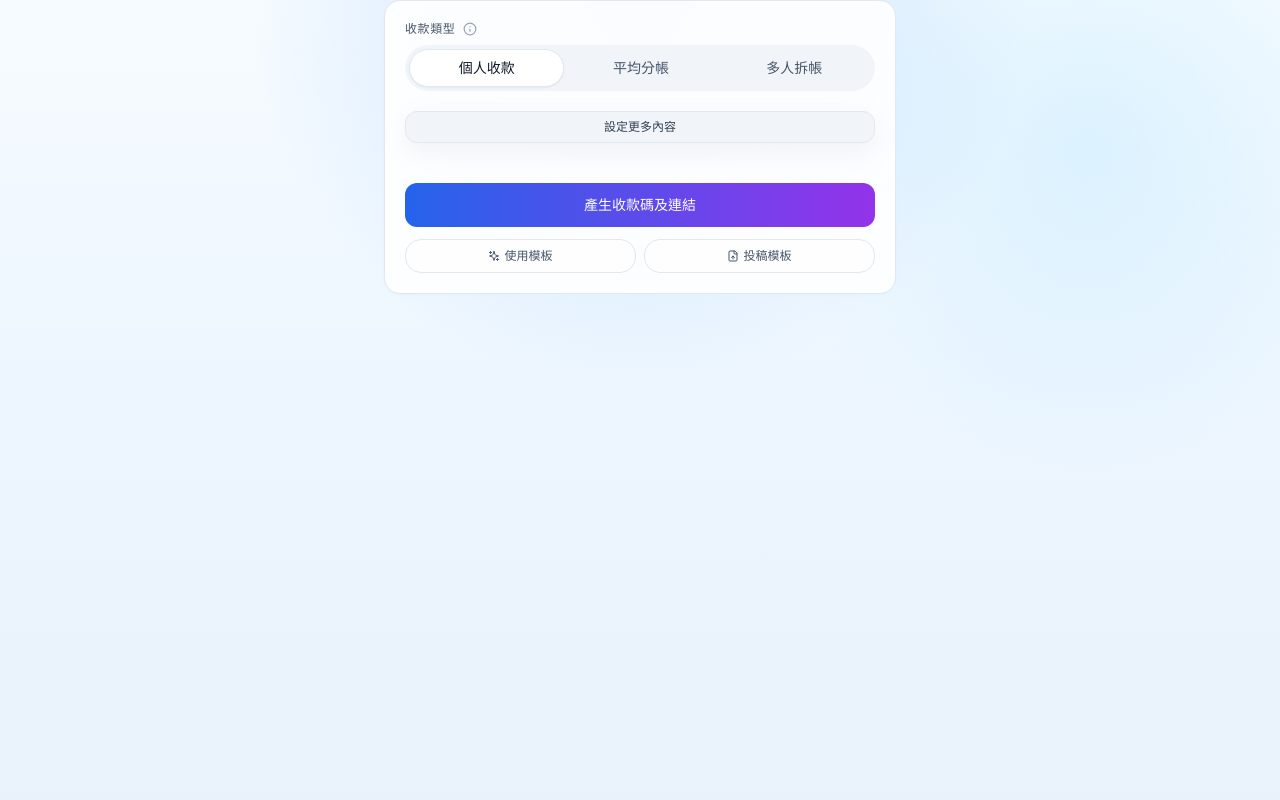
Generator Integration Tests › 切換至「多人拆帳」模式，應顯示分帳表單
Click the button "多人拆帳". click: (794, 68)
box: [718,50,871,86]
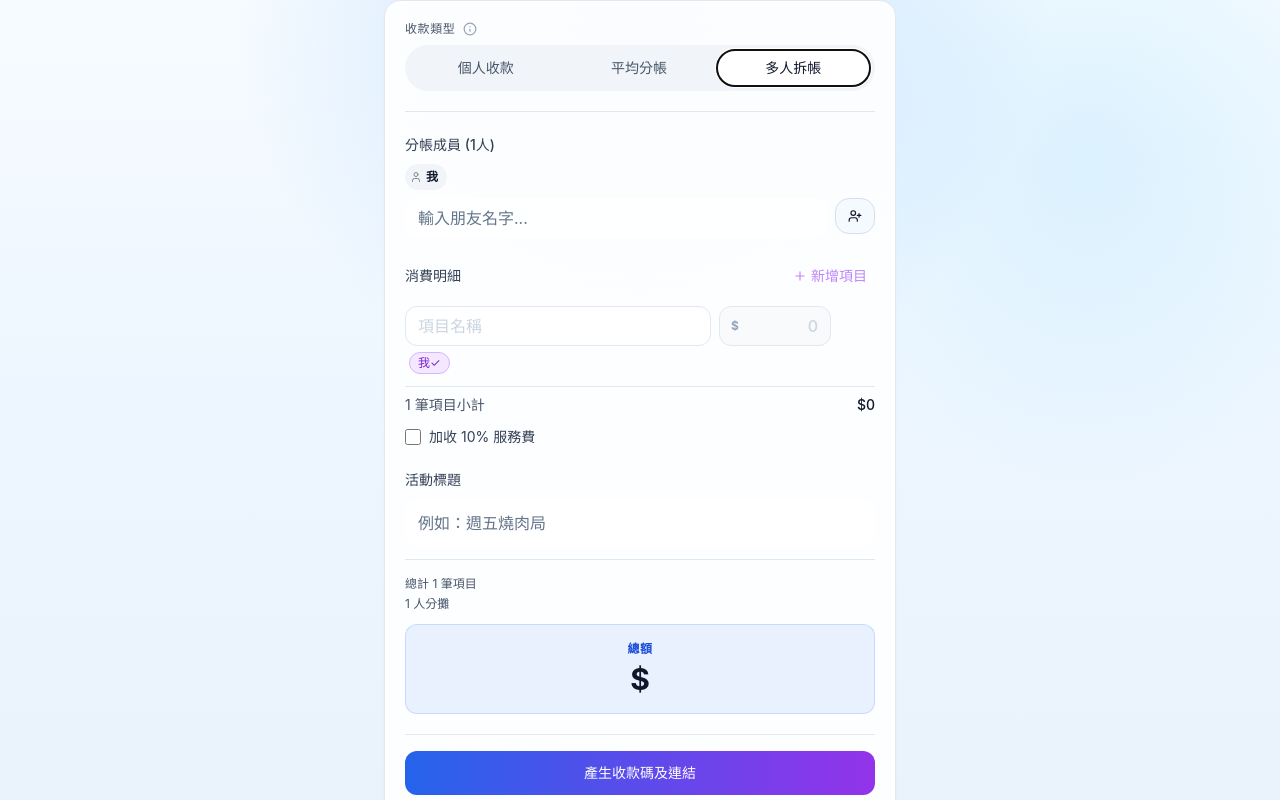
Now the field with placeholder "例如：週五燒肉局" is shown, box [405,499,875,547]
Now the text "分帳成員 (1人)" is shown, box [405,136,495,153]
